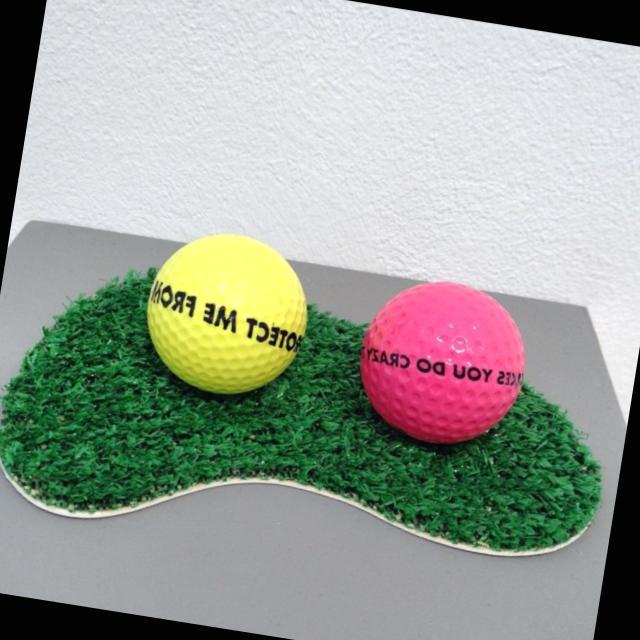Tennis Ball: (346, 268, 538, 458), (137, 224, 320, 405)
